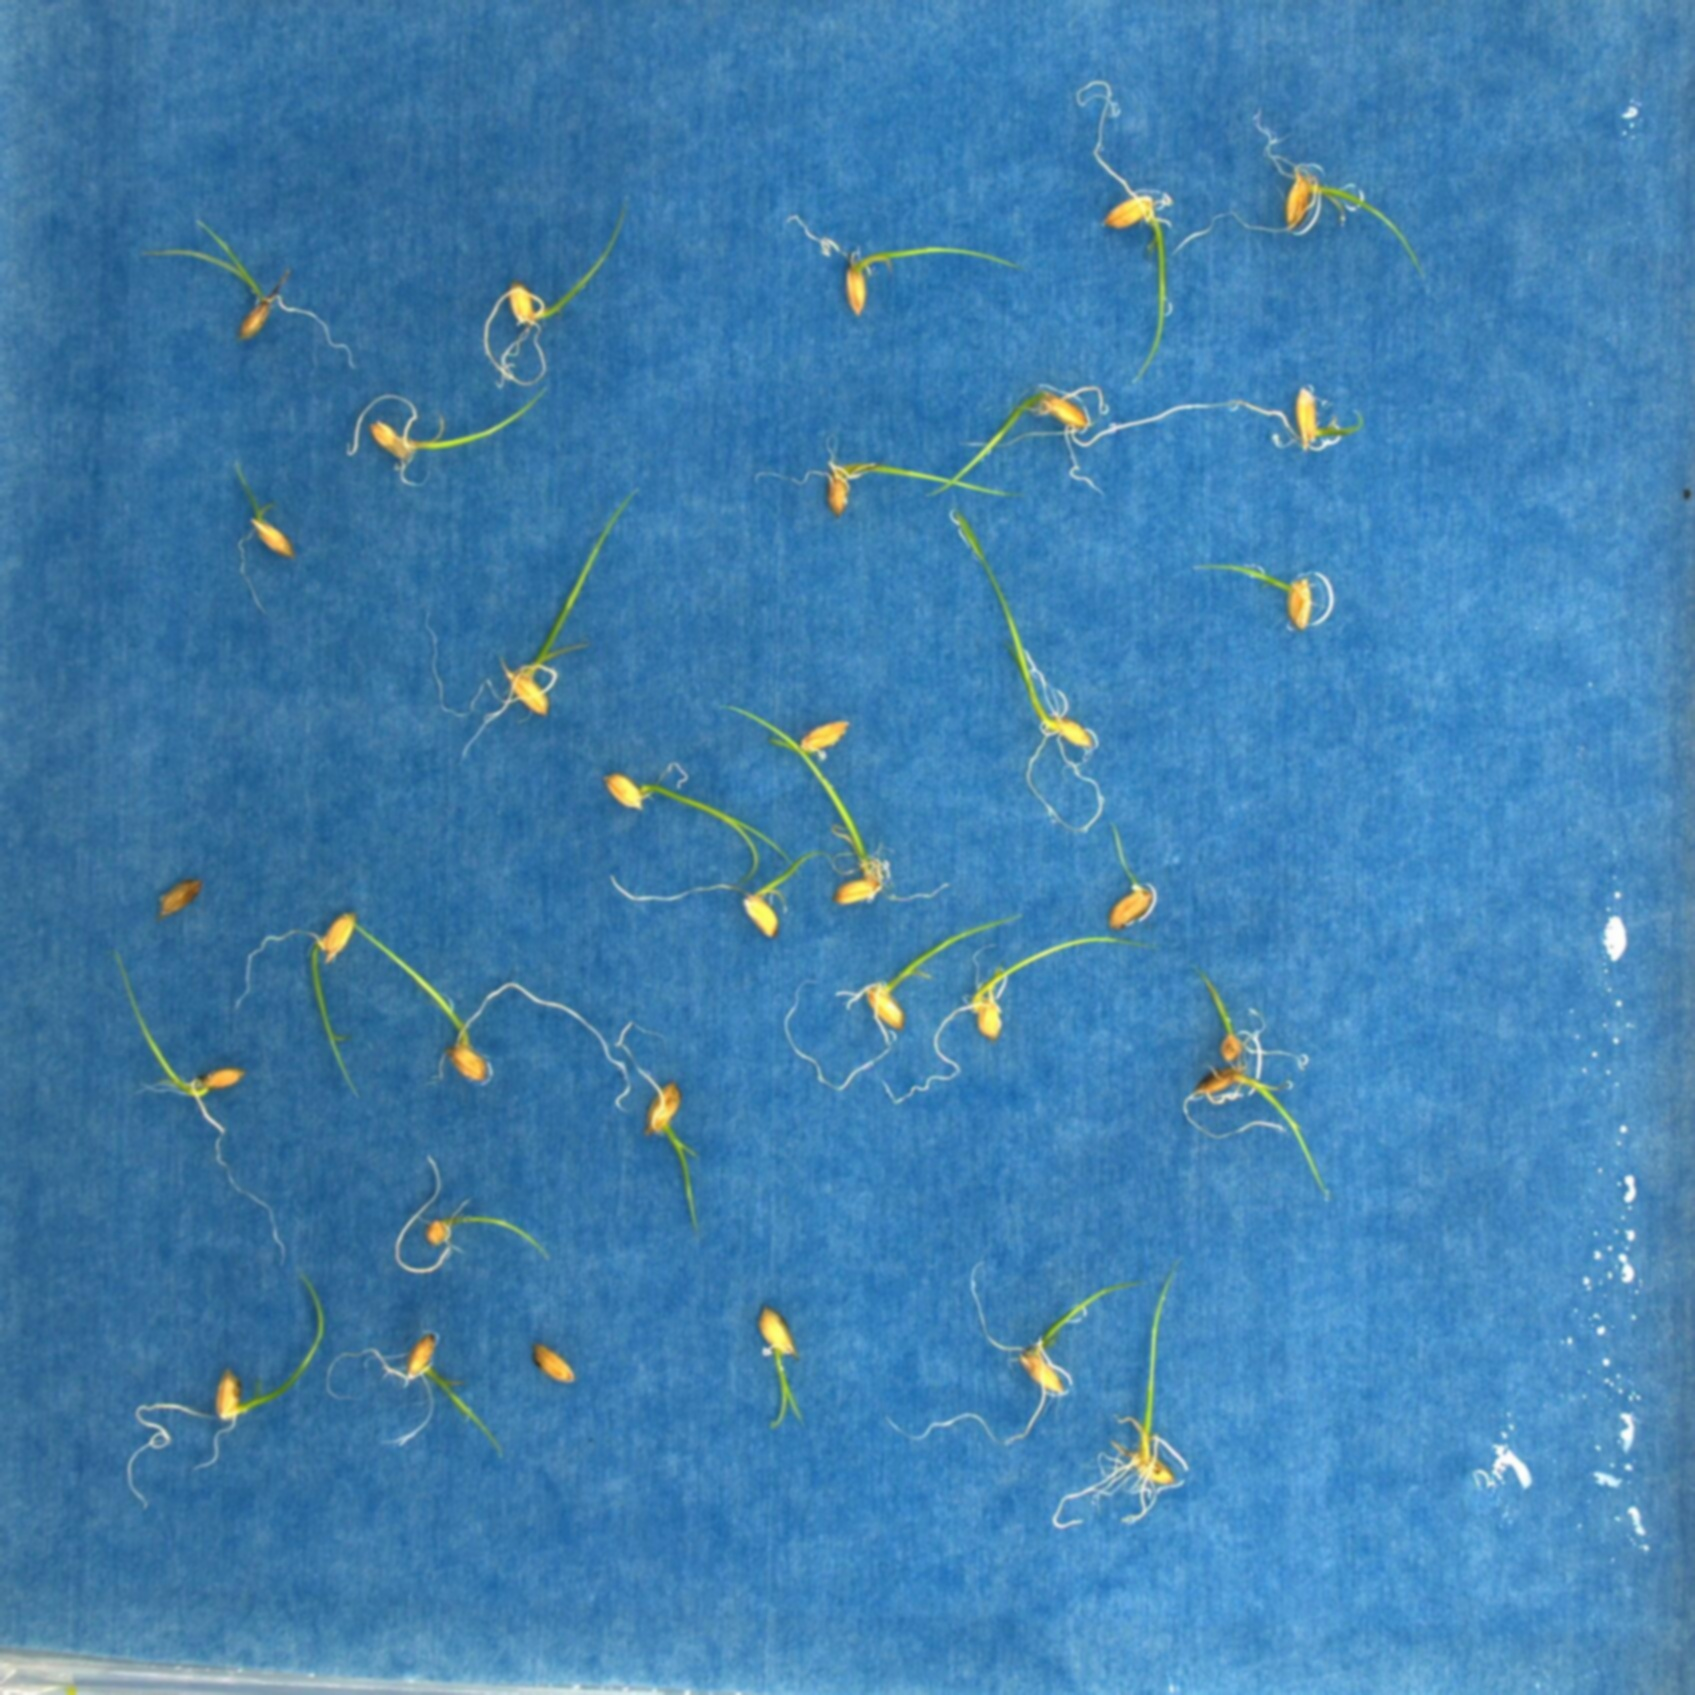not sprout: (154, 877, 203, 924), (532, 1346, 581, 1388)
sprout: (424, 486, 638, 759), (348, 914, 633, 1119), (109, 948, 289, 1256), (712, 692, 958, 906), (953, 500, 1108, 837), (882, 1254, 1139, 1448), (129, 1263, 328, 1506), (1180, 109, 1434, 296), (879, 938, 1142, 1107), (785, 919, 1023, 1101), (928, 382, 1287, 495), (1042, 1270, 1189, 1534), (1181, 976, 1343, 1206), (140, 216, 363, 368), (1076, 75, 1173, 371), (483, 203, 629, 388), (789, 205, 1021, 315), (234, 913, 366, 1104), (328, 1332, 511, 1468), (604, 765, 806, 886), (751, 428, 1004, 515), (338, 386, 557, 486), (612, 1015, 708, 1231), (390, 1152, 556, 1270), (612, 851, 820, 941), (1197, 981, 1315, 1096), (231, 449, 295, 613), (1187, 553, 1318, 629), (1225, 386, 1367, 453), (1094, 821, 1163, 938), (757, 1301, 807, 1433), (767, 708, 847, 757)
